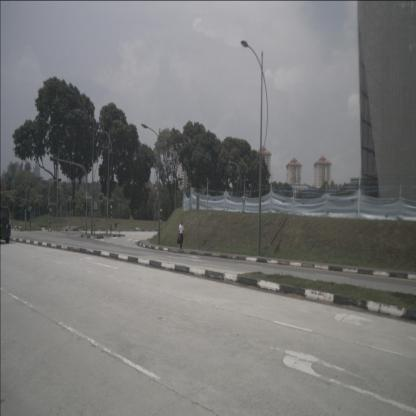human-pedestrian-adult: (177, 221, 184, 250)
vehicle-car: (0, 206, 11, 244)
